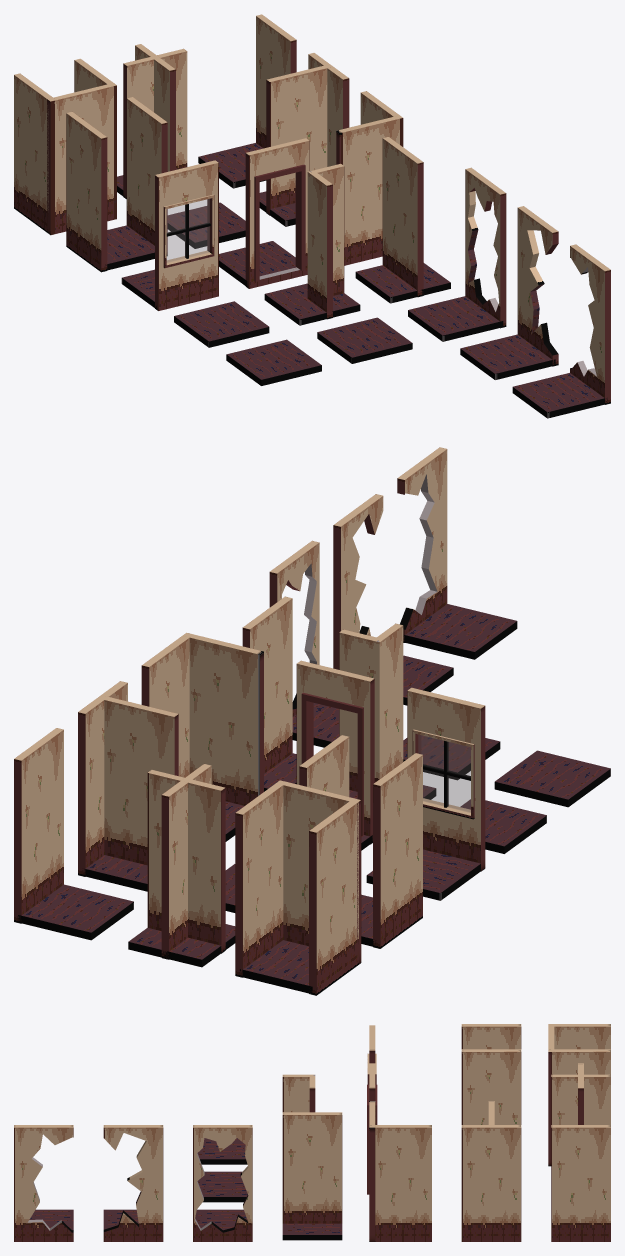
The model's file is MotelTileset.glb.
3 views of the same model, one above another, from view 1: azimuth 30°, elevation 25°; view 2: azimuth 150°, elevation 25°; view 3: azimuth 270°, elevation 25° (orthographic). The views are drawn at different scales.
Parts seen in each view (by area): view 1: Cube.027, Cube.029, Cube.014, Cube.018, Cube.010, Cube.015, Cube.006, Cube.020, Cube.017, Cube.021, Cube.019, Cube.022 (+5 smaller); view 2: Cube.029, Cube.022, Cube.020, Cube.018, Cube.014, Cube.023, Cube.027, Cube.019, Cube.015, Cube.006, Cube.010, Cube.021 (+4 smaller); view 3: Cube.010, Cube.020, Cube.018, Cube.023, Cube.027, Cube.021, Cube.019, Cube.017, Cube.029, Cube.022, Cube.030, Cube.015 (+3 smaller).
Part boxes in pixels (x1,y1,x2,y2): Cube.027: (66,97,167,272); Cube.029: (14,58,116,235); Cube.014: (121,160,218,310); Cube.018: (259,53,349,226); Cube.010: (355,136,450,303); Cube.015: (264,163,360,325); Cube.006: (219,138,309,288); Cube.020: (336,91,403,265); Cube.017: (408,167,506,341); Cube.021: (460,206,558,380); Cube.019: (512,244,610,418); Cube.022: (117,44,187,198); Cube.029: (235,780,361,995); Cube.022: (128,764,235,967); Cube.020: (141,632,263,841); Cube.018: (78,681,178,891); Cube.014: (366,687,485,900); Cube.023: (14,728,133,940); Cube.027: (299,735,422,948); Cube.019: (397,447,517,659); Cube.015: (339,623,436,799); Cube.006: (296,660,374,850); Cube.010: (242,596,296,791); Cube.021: (333,494,453,705); Cube.010: (282,1112,342,1240); Cube.020: (369,1101,431,1241); Cube.018: (461,1101,521,1241); Cube.023: (551,1125,610,1241); Cube.027: (461,1024,521,1124); Cube.021: (103,1125,163,1241); Cube.019: (14,1125,73,1241); Cube.017: (193,1125,252,1241); Cube.029: (548,1024,610,1166); Cube.022: (551,1063,610,1124); Cube.030: (197,1171,247,1202); Cube.015: (282,1074,315,1112).
Size of the model in its own units: 8.2 by 4.22 by 20.
14 materials, 13 textured.
